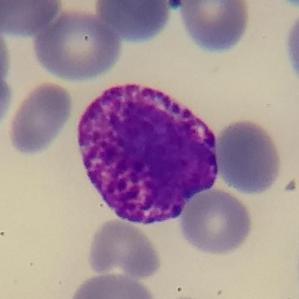Basophil: (68, 72, 228, 232)
Platelets: (282, 177, 299, 195), (166, 0, 184, 10)
RBC: (31, 6, 124, 82), (213, 116, 285, 196), (177, 185, 256, 257), (5, 79, 76, 157), (85, 216, 164, 282), (175, 0, 254, 55), (94, 0, 176, 42), (67, 270, 160, 299), (0, 0, 64, 36), (282, 6, 299, 90), (0, 76, 16, 124), (0, 35, 13, 85)
